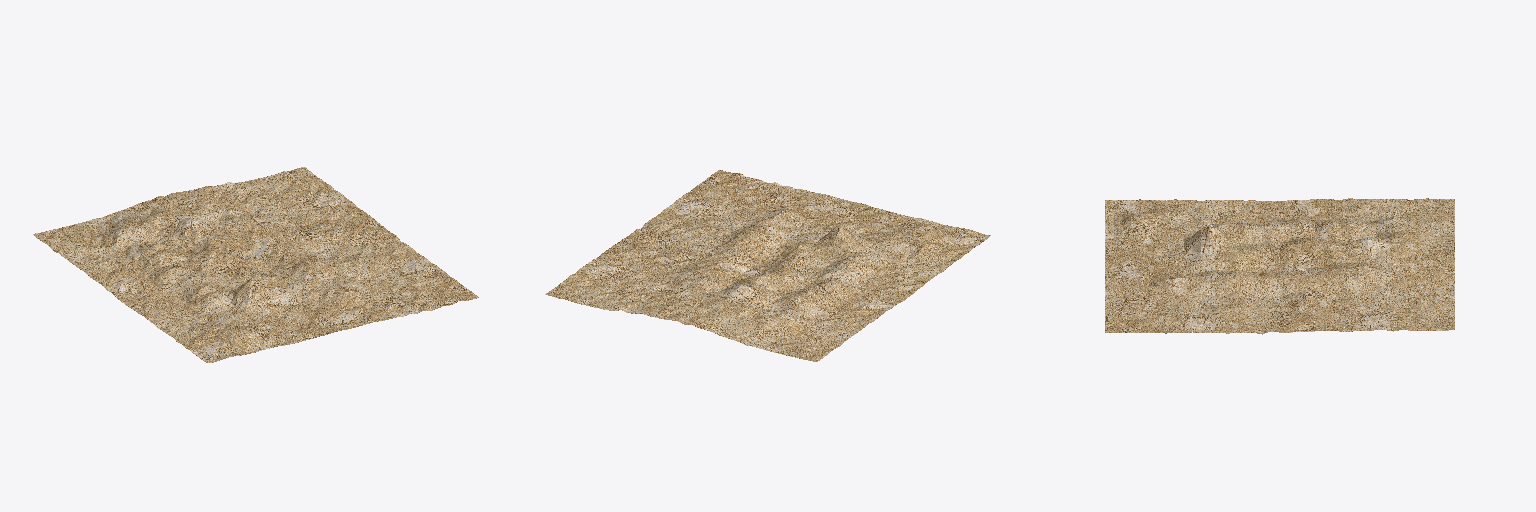
The picture shows the model from 3 angles: view 1: azimuth 30°, elevation 25°; view 2: azimuth 150°, elevation 25°; view 3: azimuth 270°, elevation 25°; orthographic projection.
Parts seen in each view (by area): view 1: Plane01; view 2: Plane01; view 3: Plane01.
Boxes of the visible parts, box(x1,y1,x2,y2) form: Plane01: box(33, 167, 478, 362); Plane01: box(545, 170, 990, 361); Plane01: box(1105, 198, 1454, 334).
Size of the model in its own units: 73.79 by 6.66 by 82.2.
1 materials, 1 textured.